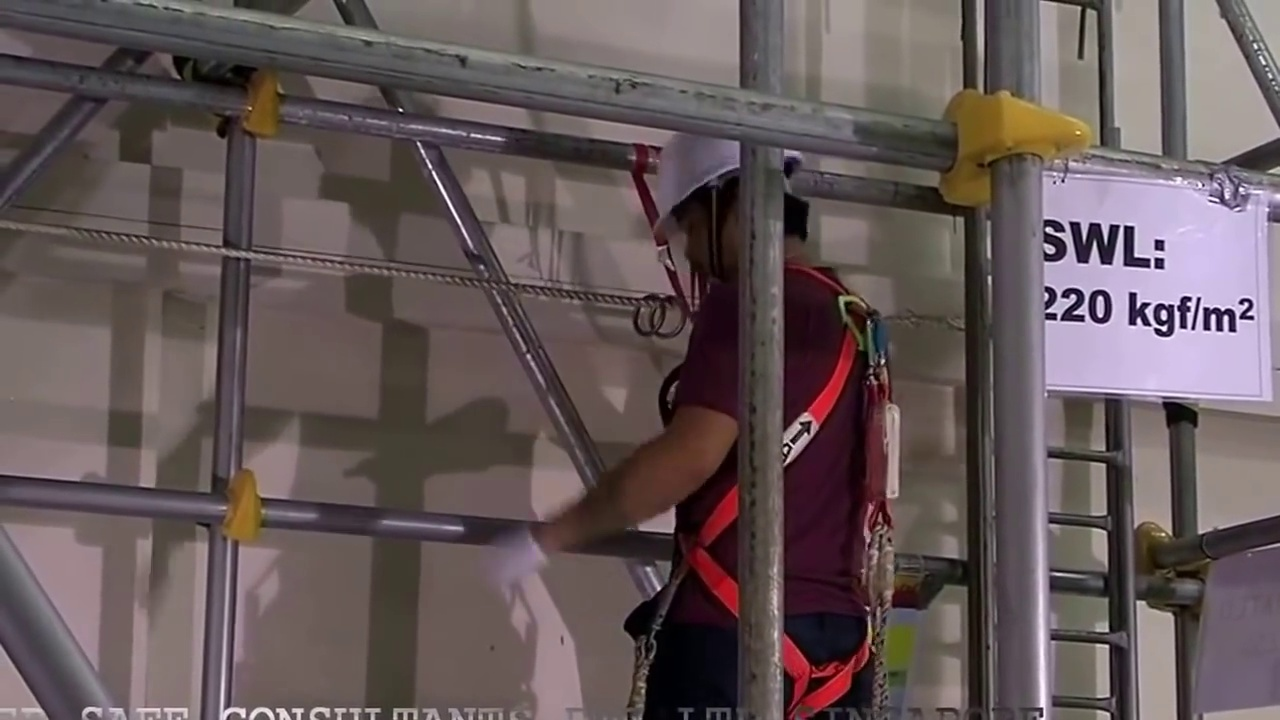harness: (749, 310, 889, 701)
helmet: (655, 133, 737, 216)
